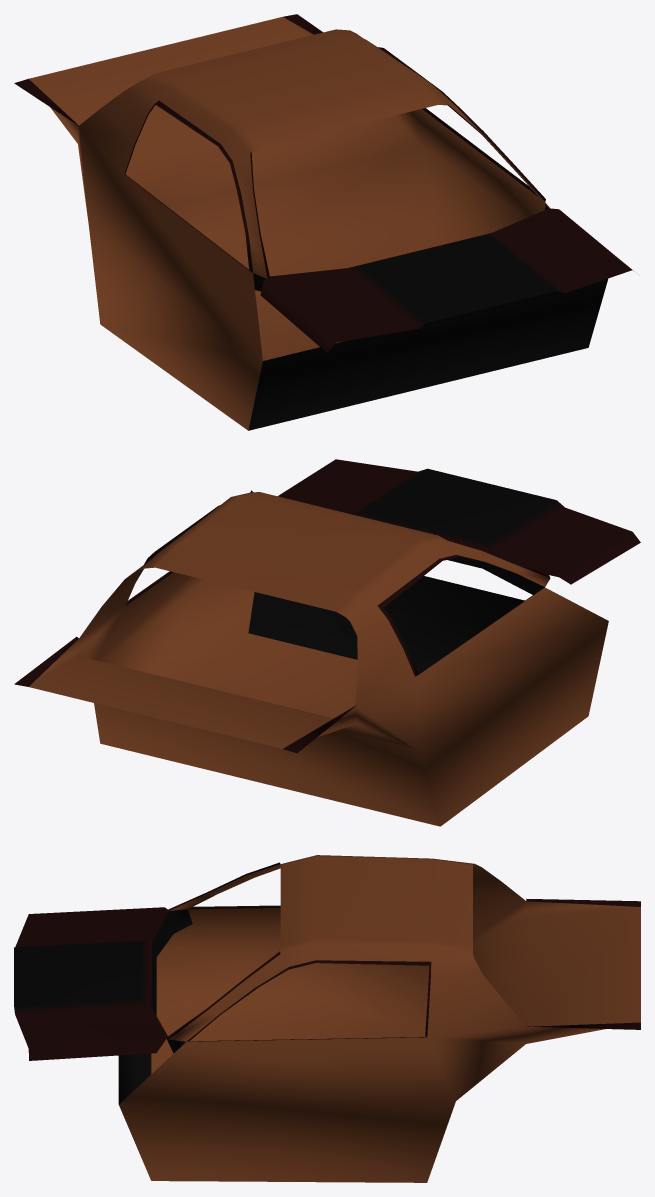
File: VRCarBody_V4.fbx
The picture shows the model from 3 angles, top to bottom: view 1: azimuth 30°, elevation 25°; view 2: azimuth 150°, elevation 25°; view 3: azimuth 270°, elevation 25°; orthographic projection. The views are drawn at different scales.
Parts seen in each view (by area): view 1: VRCarBodyV4; view 2: VRCarBodyV4; view 3: VRCarBodyV4.
Boxes of the visible parts, <box> form: VRCarBodyV4: <box>14,14,634,430</box>; VRCarBodyV4: <box>14,459,640,826</box>; VRCarBodyV4: <box>14,855,640,1182</box>.
Size of the model in its own units: 195 by 120 by 328.
